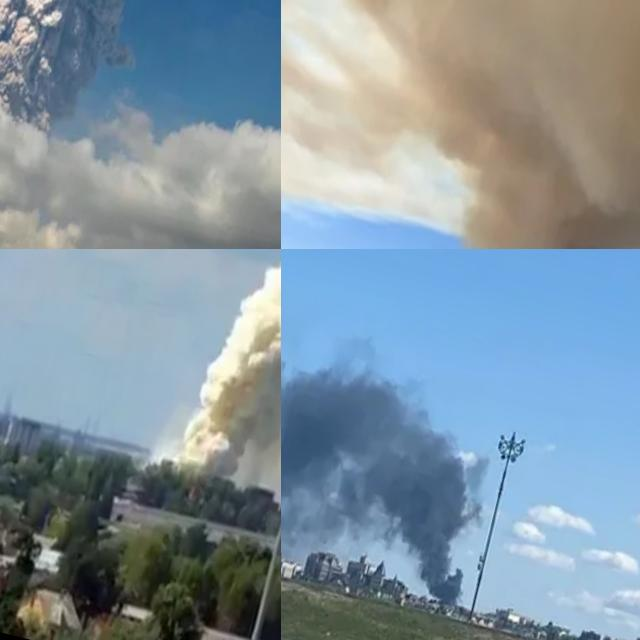smoke: (281, 315, 519, 609), (0, 0, 240, 143), (373, 138, 640, 249), (178, 249, 281, 529)
